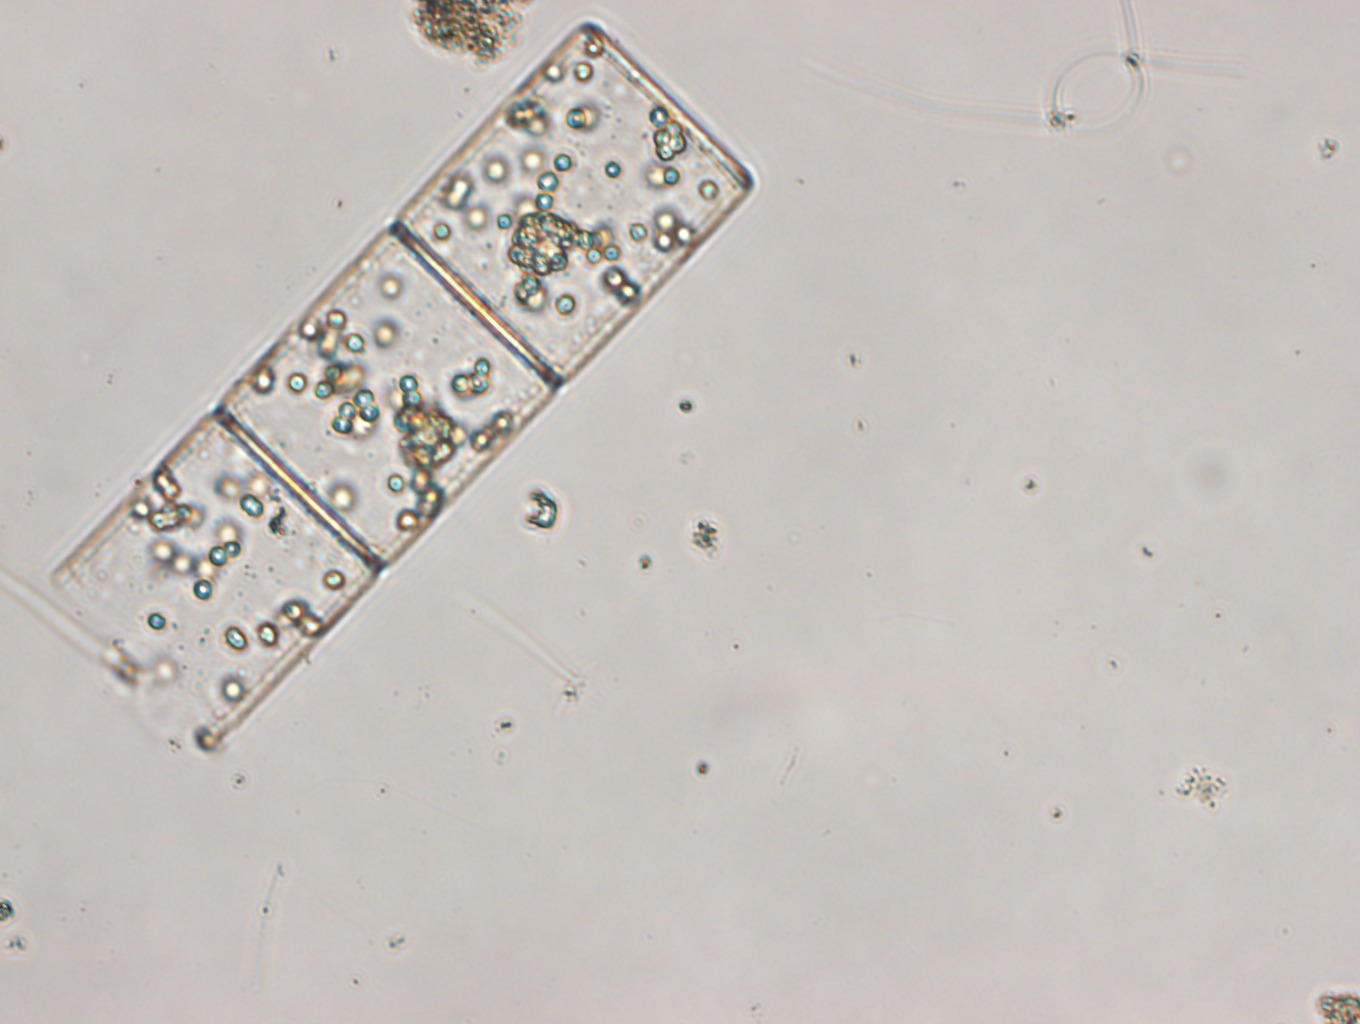guinardia flaccida: (49, 19, 759, 748)
